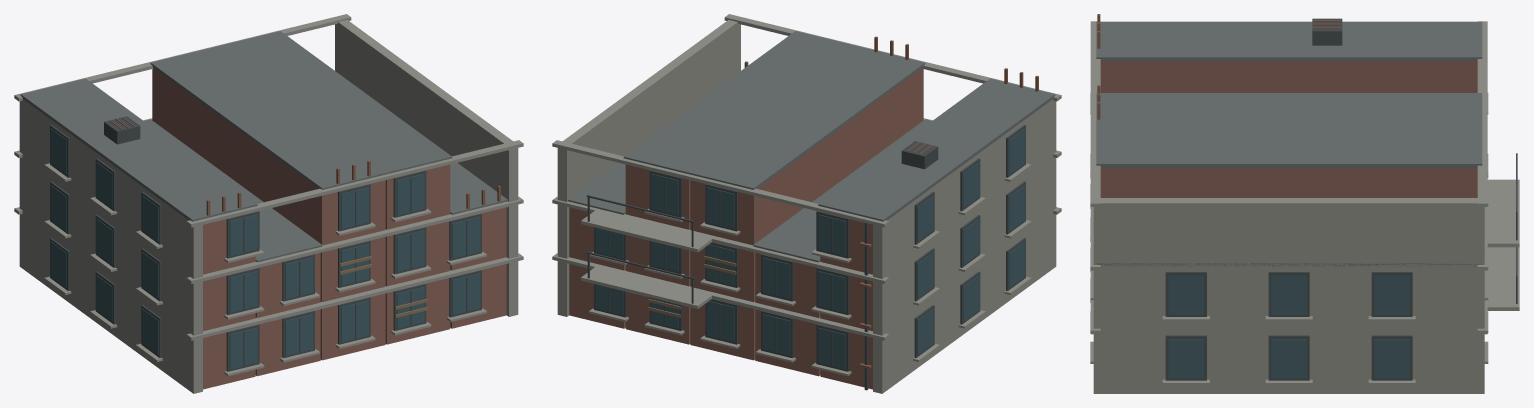
Rendered from Ville_Batiment_08.fbx.
3 views of the same model, side by side, from view 1: azimuth 30°, elevation 25°; view 2: azimuth 150°, elevation 25°; view 3: azimuth 270°, elevation 25° (orthographic). The views are drawn at different scales.
Visible parts, largest first — view 1: Ville_Batiment_08_concrete, Ville_Batiment_08_concrete_dark, Ville_Batiment_08_brick, Ville_Batiment_08_glass, Ville_Batiment_08_iron, Ville_Batiment_08_rust, Ville_Batiment_08_wood; view 2: Ville_Batiment_08_concrete, Ville_Batiment_08_concrete_dark, Ville_Batiment_08_brick, Ville_Batiment_08_glass, Ville_Batiment_08_iron, Ville_Batiment_08_rust, Ville_Batiment_08_wood; view 3: Ville_Batiment_08_concrete, Ville_Batiment_08_concrete_dark, Ville_Batiment_08_brick, Ville_Batiment_08_glass, Ville_Batiment_08_iron, Ville_Batiment_08_rust.
Part boxes in pixels (x1=…): Ville_Batiment_08_concrete: x1=14, y1=14, x2=523, y2=393; Ville_Batiment_08_concrete_dark: x1=20, y1=31, x2=507, y2=262; Ville_Batiment_08_brick: x1=152, y1=68, x2=506, y2=389; Ville_Batiment_08_glass: x1=50, y1=128, x2=480, y2=369; Ville_Batiment_08_iron: x1=50, y1=116, x2=481, y2=371; Ville_Batiment_08_rust: x1=109, y1=117, x2=500, y2=215; Ville_Batiment_08_wood: x1=339, y1=256, x2=427, y2=317; Ville_Batiment_08_concrete: x1=552, y1=14, x2=1061, y2=393; Ville_Batiment_08_concrete_dark: x1=568, y1=31, x2=1055, y2=262; Ville_Batiment_08_brick: x1=569, y1=68, x2=923, y2=389; Ville_Batiment_08_glass: x1=595, y1=128, x2=1025, y2=369; Ville_Batiment_08_iron: x1=586, y1=124, x2=1025, y2=390; Ville_Batiment_08_rust: x1=744, y1=36, x2=1038, y2=368; Ville_Batiment_08_wood: x1=648, y1=256, x2=736, y2=317; Ville_Batiment_08_concrete: x1=1090, y1=21, x2=1519, y2=393; Ville_Batiment_08_concrete_dark: x1=1096, y1=21, x2=1482, y2=266; Ville_Batiment_08_brick: x1=1100, y1=61, x2=1477, y2=197; Ville_Batiment_08_glass: x1=1168, y1=275, x2=1409, y2=378; Ville_Batiment_08_iron: x1=1165, y1=18, x2=1517, y2=380; Ville_Batiment_08_rust: x1=1097, y1=14, x2=1341, y2=119.
Bounding box in the file's own units: 43.56 × 23.2 × 42.85.
